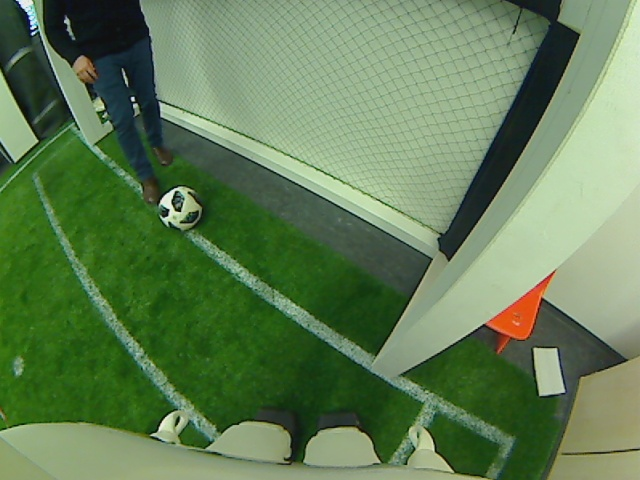ball: (152, 183, 203, 233)
